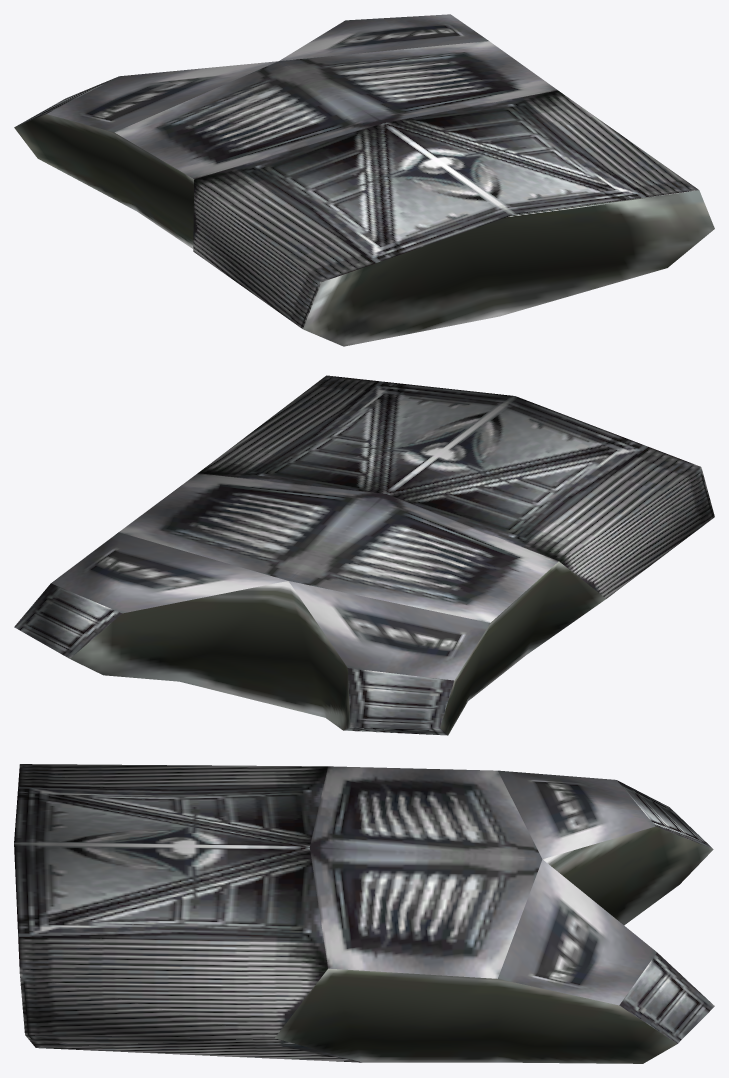
Rendered from TorsoArmour4__EC.glb.
The picture shows the model from 3 angles, top to bottom: view 1: azimuth 30°, elevation 25°; view 2: azimuth 150°, elevation 25°; view 3: azimuth 270°, elevation 25°; orthographic projection. The views are drawn at different scales.
Visible parts, largest first — view 1: TorsoArmour4; view 2: TorsoArmour4; view 3: TorsoArmour4.
Part boxes in pixels (<box>): TorsoArmour4: <box>14,14,714,346</box>; TorsoArmour4: <box>14,375,714,735</box>; TorsoArmour4: <box>14,764,714,1063</box>.
Size of the model in its own units: 20.19 by 5.52 by 25.26.
Materials: 1 (1 with a texture image).
